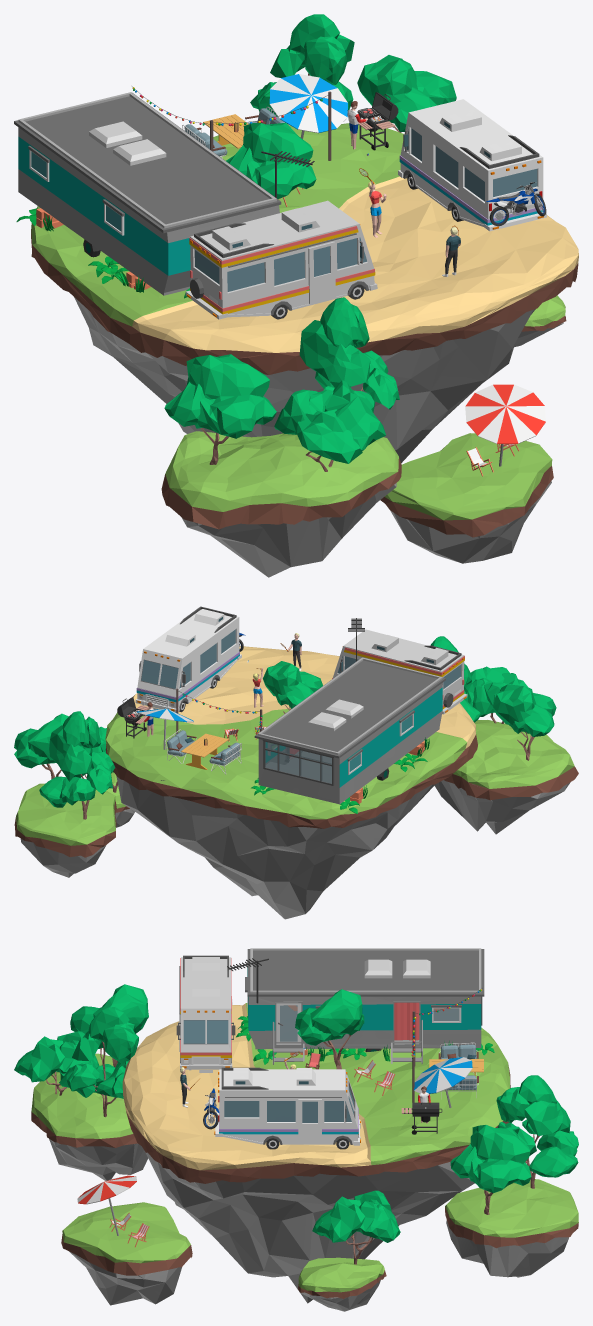
The model's file is land_53.fbx.
The picture shows the model from 3 angles, top to bottom: view 1: azimuth 30°, elevation 25°; view 2: azimuth 150°, elevation 25°; view 3: azimuth 270°, elevation 25°; orthographic projection. The views are drawn at different scales.
Visible parts, largest first — view 1: polySurface3036, land_53.077, polySurface3038, land_53.057, polySurface3037, land_53.074, land_76.138, land_76.139, land_76.135, land_76.137, land_53.080, land_53.008 (+6 smaller); view 2: polySurface3036, land_53.077, polySurface3038, land_53.074, polySurface3034, land_76.137, land_53.057, land_76.138, land_53.080, land_76.135, land_76.134, land_53.075 (+6 smaller); view 3: polySurface3036, land_53.077, land_53.074, polySurface3034, polySurface3037, polySurface3038, land_53.057, land_76.137, land_76.139, land_76.134, polySurface3035, land_76.136 (+7 smaller).
Boxes of the visible parts, bbox=[...] form: polySurface3036: bbox=[31, 123, 578, 463]; land_53.077: bbox=[14, 92, 314, 295]; polySurface3038: bbox=[161, 431, 401, 577]; land_53.057: bbox=[185, 200, 377, 319]; polySurface3037: bbox=[380, 433, 553, 563]; land_53.074: bbox=[398, 99, 546, 231]; land_76.138: bbox=[164, 354, 276, 464]; land_76.139: bbox=[299, 297, 399, 412]; land_76.135: bbox=[274, 380, 385, 471]; land_76.137: bbox=[250, 14, 354, 123]; land_53.080: bbox=[226, 122, 316, 199]; land_53.008: bbox=[465, 384, 545, 466]; polySurface3036: bbox=[105, 646, 477, 919]; land_53.077: bbox=[254, 618, 445, 804]; polySurface3038: bbox=[434, 720, 578, 834]; land_53.074: bbox=[135, 606, 241, 712]; polySurface3034: bbox=[14, 783, 116, 877]; land_76.137: bbox=[39, 711, 115, 819]; land_53.057: bbox=[332, 629, 467, 714]; land_76.138: bbox=[493, 684, 556, 760]; land_53.080: bbox=[263, 661, 322, 713]; land_76.135: bbox=[464, 666, 532, 723]; land_76.134: bbox=[14, 713, 84, 779]; land_53.075: bbox=[181, 733, 228, 769]; polySurface3036: bbox=[122, 1003, 510, 1303]; land_53.077: bbox=[227, 948, 484, 1064]; land_53.074: bbox=[214, 1067, 360, 1149]; polySurface3034: bbox=[445, 1179, 578, 1277]; polySurface3037: bbox=[61, 1202, 192, 1305]; polySurface3038: bbox=[31, 1053, 148, 1180]; land_53.057: bbox=[176, 955, 235, 1072]; land_76.137: bbox=[496, 1075, 578, 1188]; land_76.139: bbox=[59, 1007, 138, 1117]; land_76.134: bbox=[450, 1125, 531, 1214]; polySurface3035: bbox=[298, 1257, 386, 1311]; land_76.136: bbox=[312, 1190, 400, 1264].
Size of the model in its own units: 19.35 by 13.22 by 22.68.
